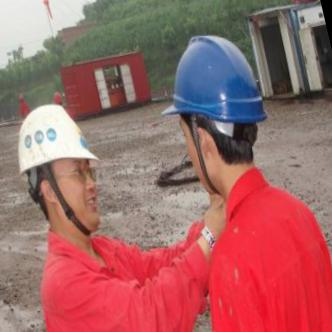helmet: (160, 34, 268, 125), (15, 102, 102, 177)
